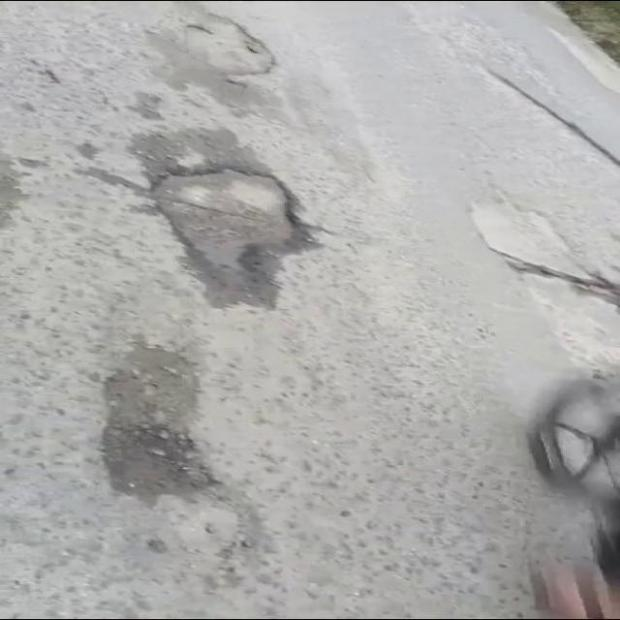lubang: (153, 168, 322, 305), (102, 366, 215, 497), (485, 69, 619, 168), (486, 244, 619, 307), (177, 12, 274, 83)
